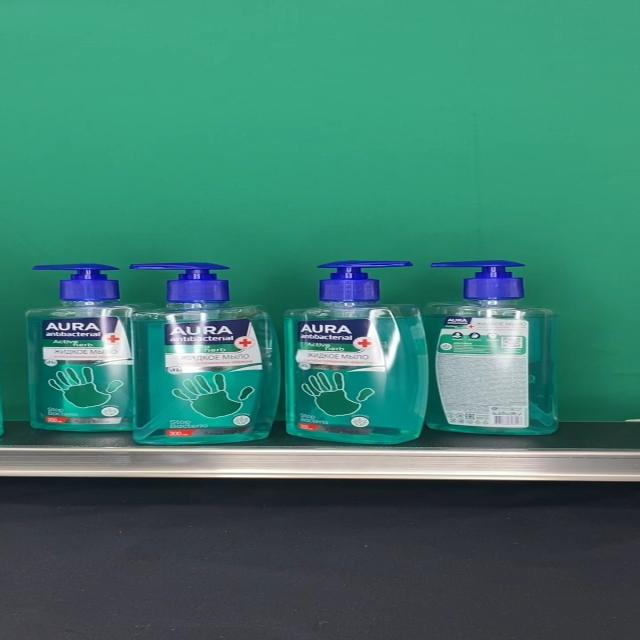Bottle: (132, 263, 280, 445), (284, 260, 430, 443), (422, 260, 559, 436), (24, 264, 159, 432)
Cap: (317, 260, 415, 300), (428, 260, 524, 300), (129, 263, 228, 301), (32, 263, 122, 299)
